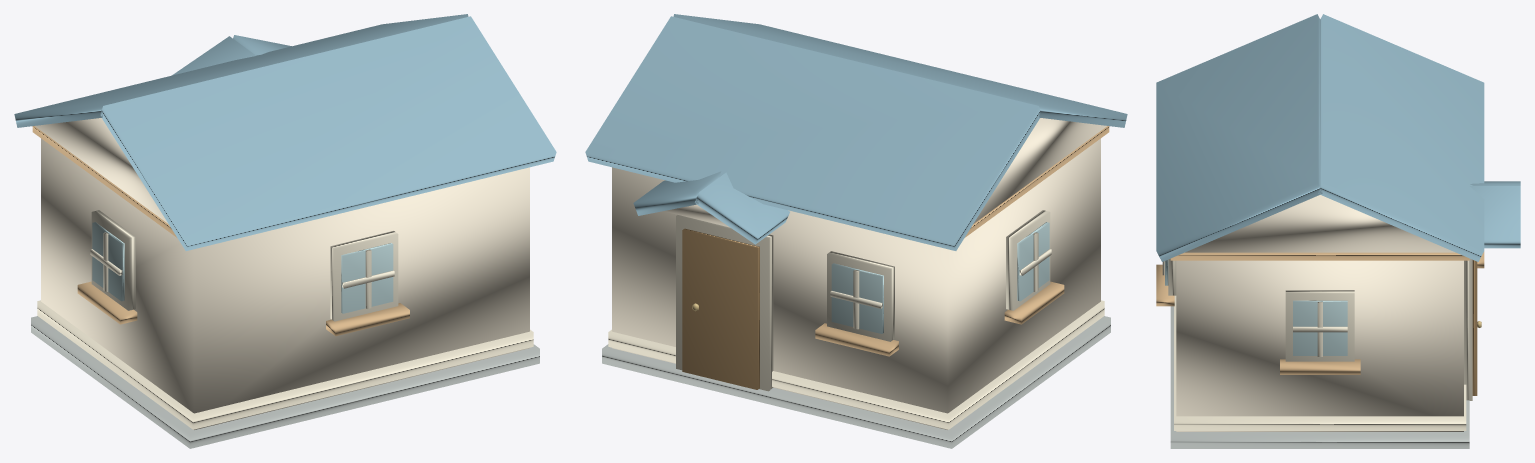
File: cottage_4_low.glb
The picture shows the model from 3 angles, left to right: view 1: azimuth 30°, elevation 25°; view 2: azimuth 150°, elevation 25°; view 3: azimuth 270°, elevation 25°; orthographic projection. The views are drawn at different scales.
Size of the model in its own units: 4.22 by 3.11 by 3.8.
